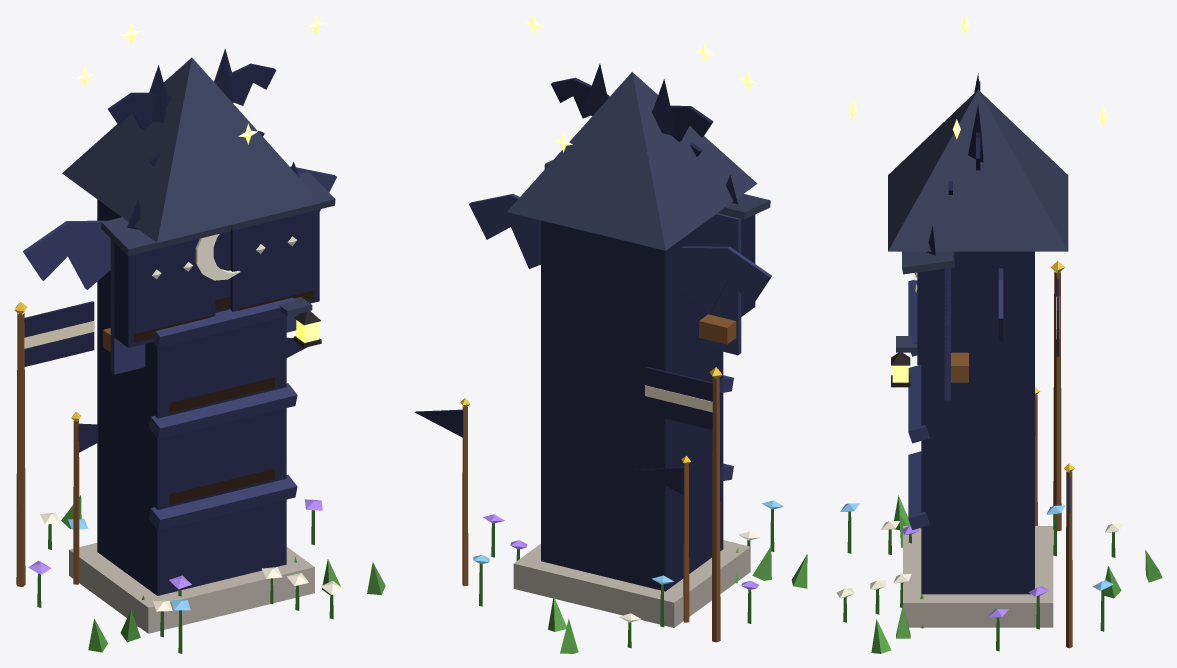
Rendered from bat-roost.glb.
3 views of the same model, side by side, from view 1: azimuth 30°, elevation 25°; view 2: azimuth 150°, elevation 25°; view 3: azimuth 270°, elevation 25° (orthographic). The views are drawn at different scales.
Parts seen in each view (by area): view 1: lv3, lv2, lv1; view 2: lv3, lv2; view 3: lv3, lv2.
Boxes of the visible parts, x1,y1,x2,y2 form: lv3: (14, 14, 385, 653); lv2: (68, 63, 340, 642); lv1: (133, 131, 296, 627); lv3: (414, 14, 807, 653); lv2: (510, 77, 771, 631); lv3: (836, 14, 1162, 653); lv2: (870, 81, 1121, 638).
Size of the model in its own units: 1.6 by 2.54 by 1.43.
